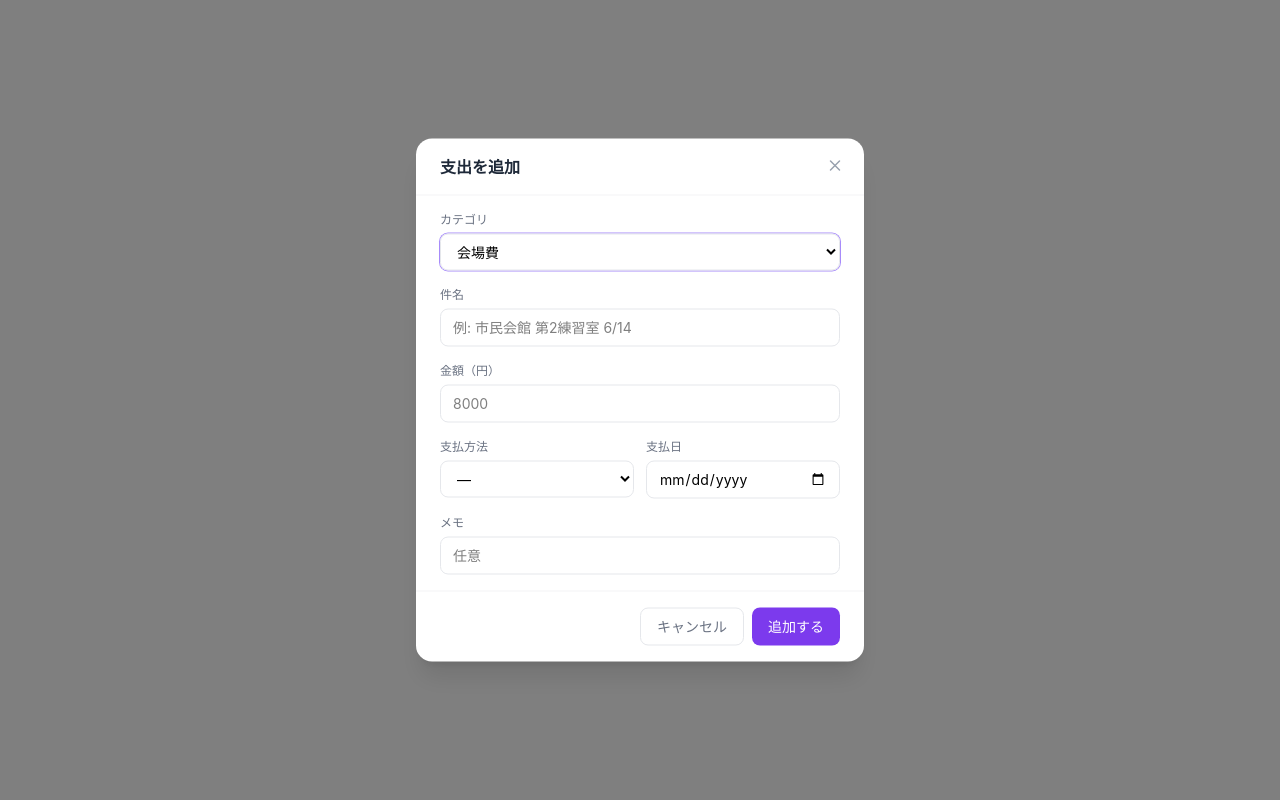
Test: ExpenseModal（新規追加） › 保存に失敗した場合はエラーメッセージを表示する
Step 1. Type "テスト" into the field with placeholder "例: 市民会館 第2練習室 6/14" → (640, 328), box [440,308,840,346]
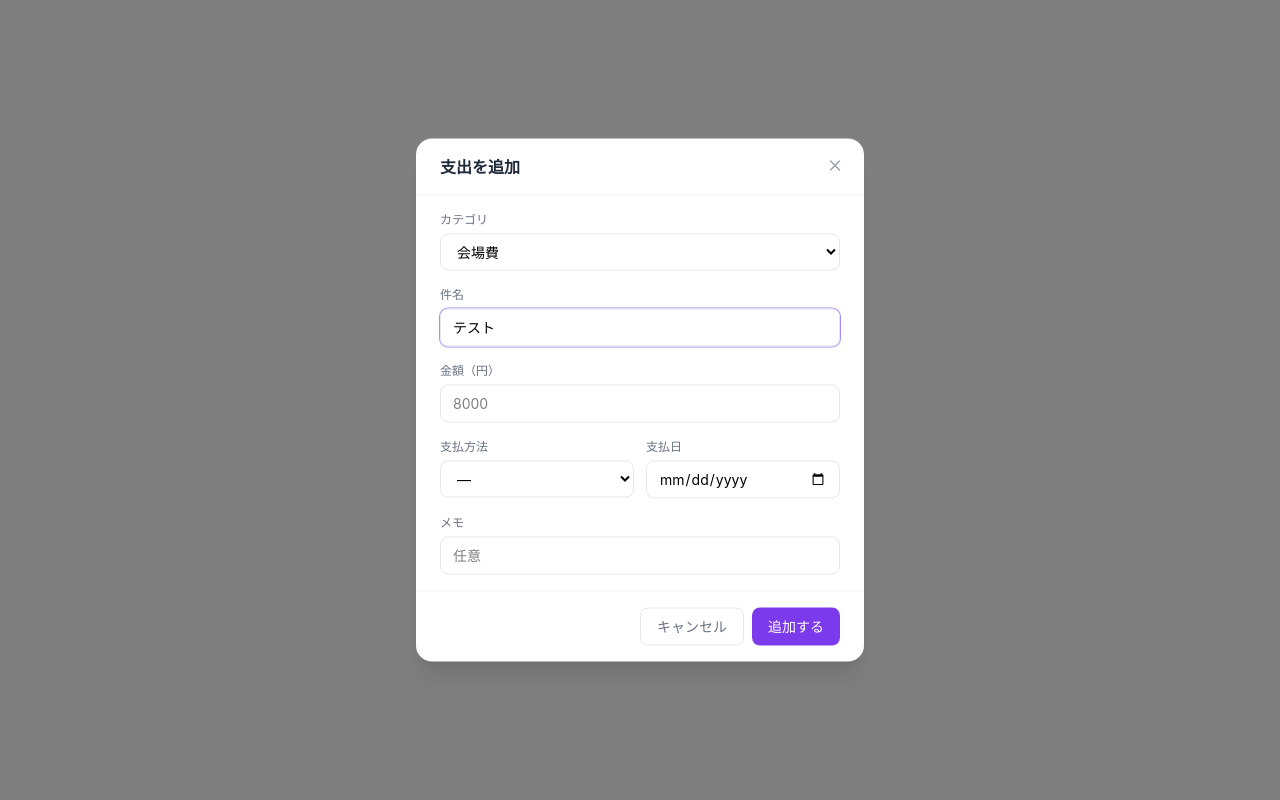
Step 2. Type "1000" into the number field with placeholder "8000" → (640, 404), box [440,384,840,422]
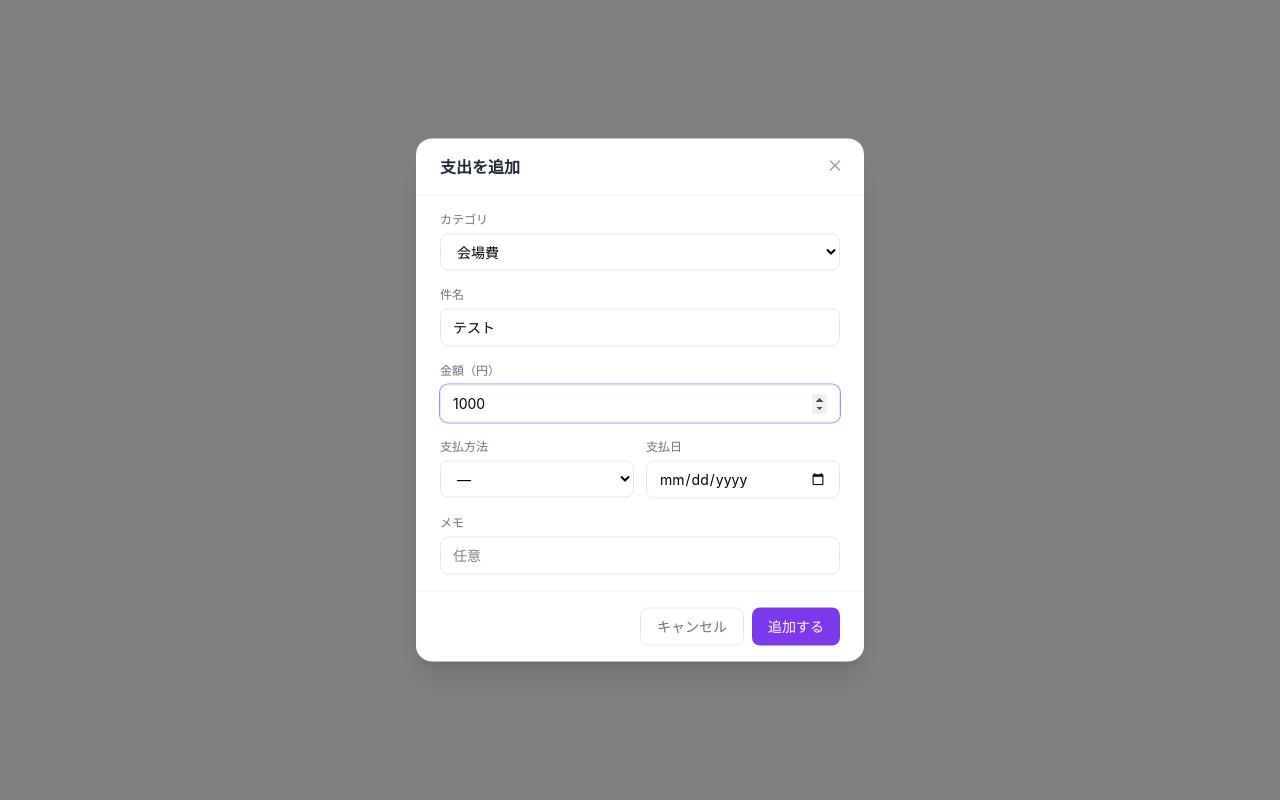
Step 3. Click the button "追加する" → (796, 626), box [752,608,840,646]
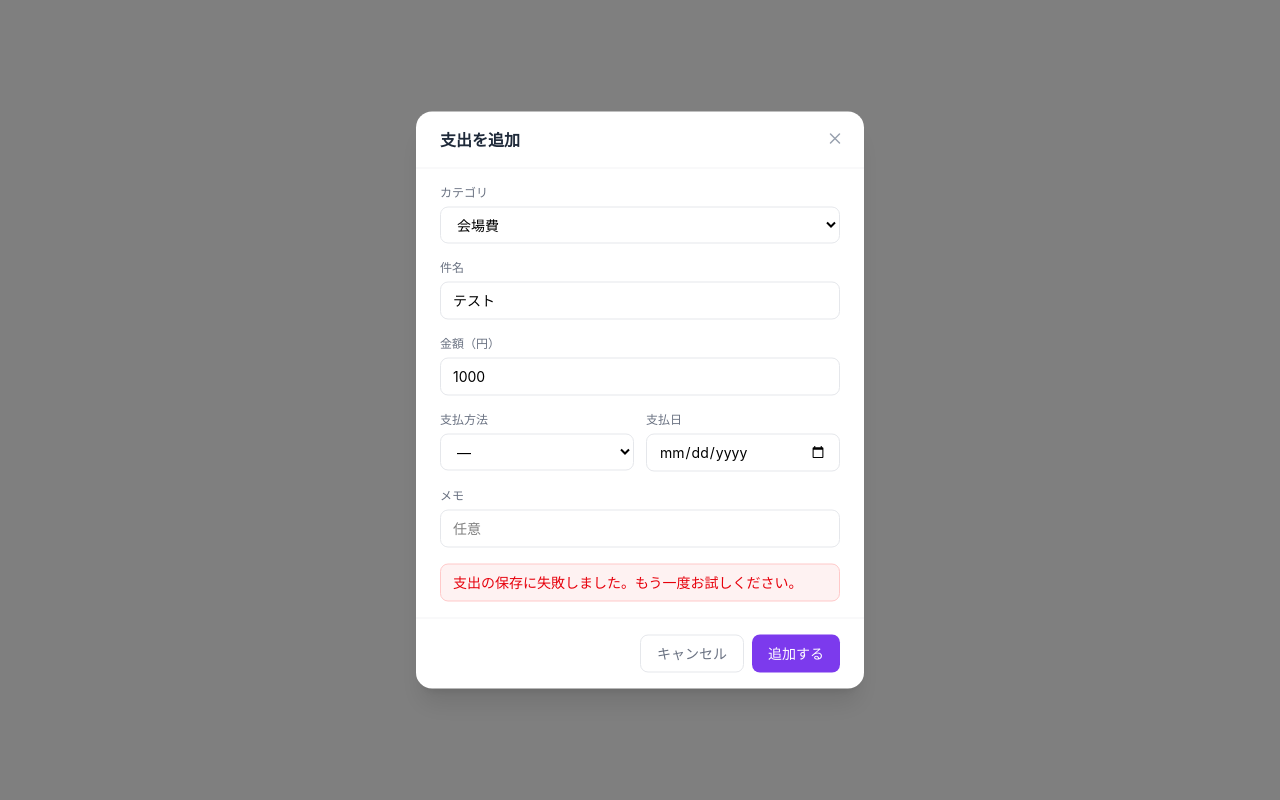
Result: the message reads "支出の保存に失敗しました。もう一度お試しください。" at [453,574,803,590]
